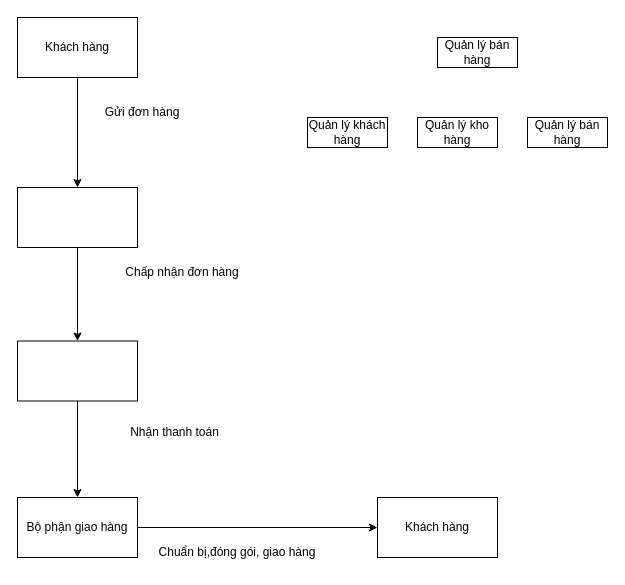
Some shapes in this 625 by 585 pixel diagram are drawn without their labels. The shapes that lost their labels are listed below. From the top down, each one's centre as x and y in pixels, then its label:
At pixel 77 217: "Bộ phận nhận đơn hàng".
At pixel 77 370: "Bộ phận thanh toán".
